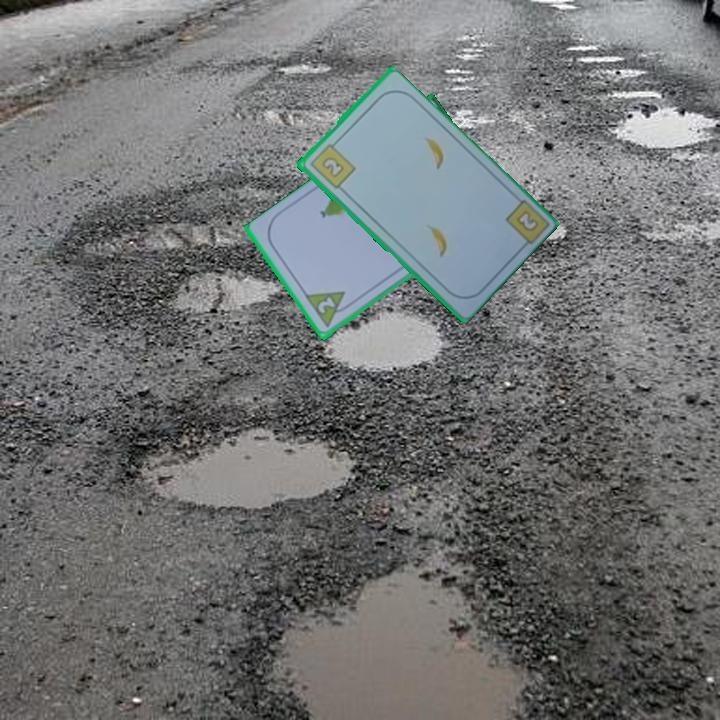2b: (306, 137, 358, 192), (512, 207, 541, 235)
2p: (302, 288, 355, 331)
